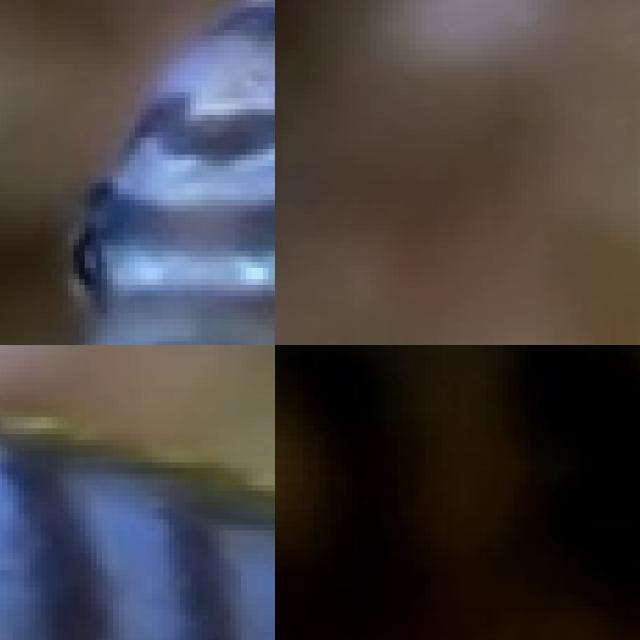fish: (275, 345, 640, 640), (0, 0, 275, 345)
